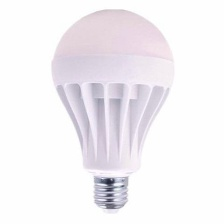light_bulb: (48, 5, 177, 220)
